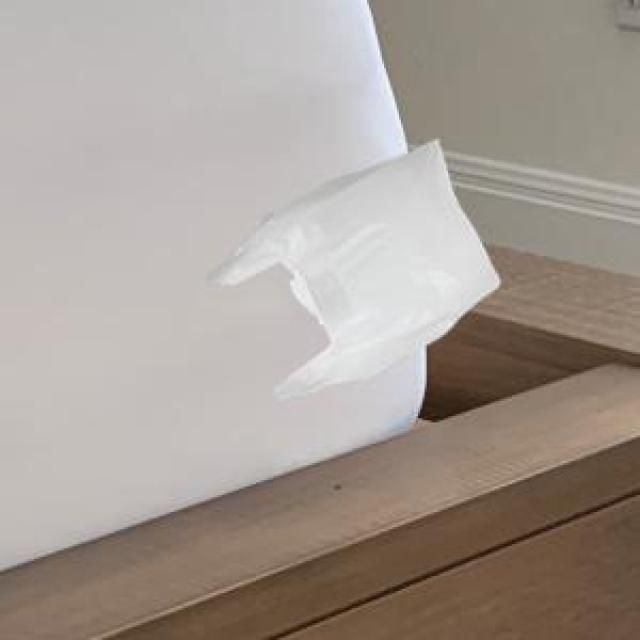waste: (210, 140, 499, 399)
